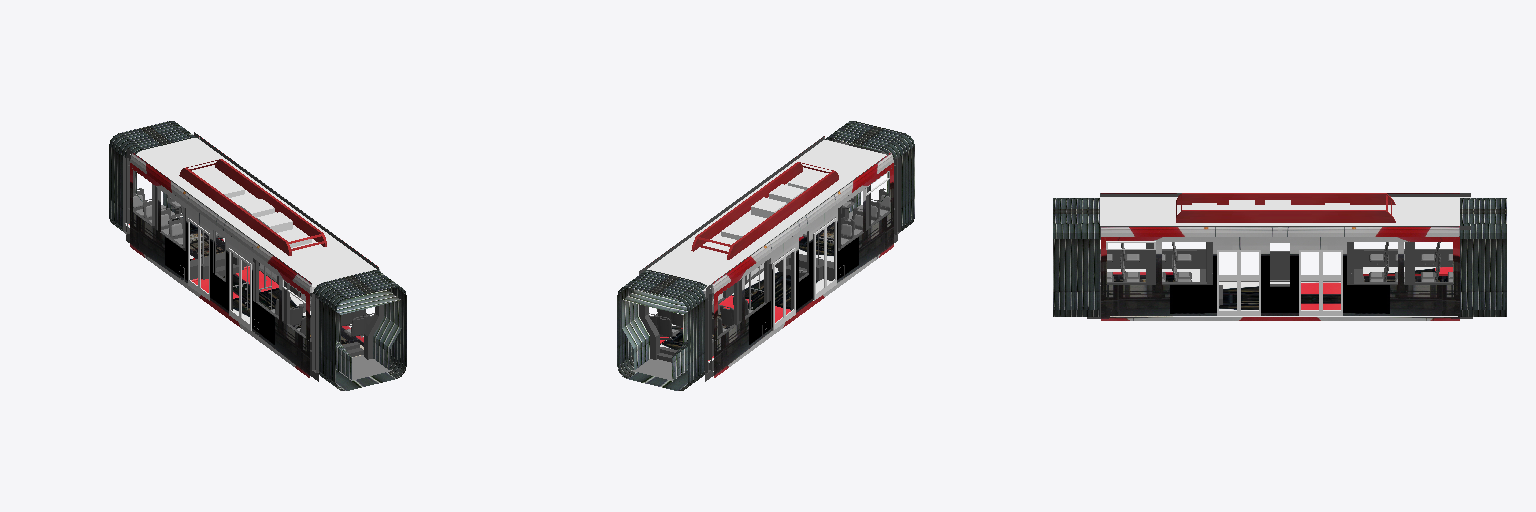
The picture shows the model from 3 angles: view 1: azimuth 30°, elevation 25°; view 2: azimuth 150°, elevation 25°; view 3: azimuth 270°, elevation 25°; orthographic projection.
Parts seen in each view (by area): view 1: Object_2.003, Object_11, Object_1.002, Object_4_Object_4.002, Object_12, Object_1.003, Object_2.001, Object_1, Object_7, Object_3.002, Object_10; view 2: Object_2.003, Object_11, Object_4_Object_4.002, Object_1.003, Object_12, Object_1.002, Object_2.002, Object_1, Object_7, Object_10.001, Object_3.003; view 3: Object_2.003, Object_11, Object_1.002, Object_4_Object_4.002, Object_1.003, Object_12, Object_1, Object_7, Object_10.001.
Boxes of the visible parts, x1,y1,x2,y2 form: Object_2.003: [130, 136, 380, 377]; Object_11: [130, 138, 376, 292]; Object_1.002: [313, 270, 406, 390]; Object_4_Object_4.002: [123, 155, 383, 381]; Object_12: [179, 159, 326, 255]; Object_1.003: [109, 121, 196, 230]; Object_2.001: [336, 290, 401, 381]; Object_1: [125, 213, 363, 357]; Object_7: [127, 132, 378, 335]; Object_3.002: [336, 355, 391, 380]; Object_10: [133, 195, 217, 243]; Object_2.003: [646, 136, 893, 377]; Object_11: [647, 140, 886, 296]; Object_4_Object_4.002: [639, 139, 900, 381]; Object_1.003: [617, 270, 706, 390]; Object_12: [691, 162, 838, 259]; Object_1.002: [825, 121, 914, 230]; Object_2.002: [622, 290, 687, 381]; Object_1: [660, 222, 833, 371]; Object_7: [639, 136, 891, 337]; Object_10.001: [805, 195, 889, 244]; Object_3.003: [632, 359, 687, 380]; Object_2.003: [1101, 193, 1459, 320]; Object_11: [1100, 197, 1470, 225]; Object_1.002: [1053, 198, 1099, 316]; Object_4_Object_4.002: [1087, 237, 1472, 318]; Object_1.003: [1460, 198, 1506, 316]; Object_12: [1176, 193, 1395, 222]; Object_1: [1107, 267, 1457, 316]; Object_7: [1100, 193, 1470, 305]; Object_10.001: [1100, 242, 1190, 285].
Bounding box in the file's own units: 2.55 × 3.55 × 13.55.
45 materials, 6 textured.